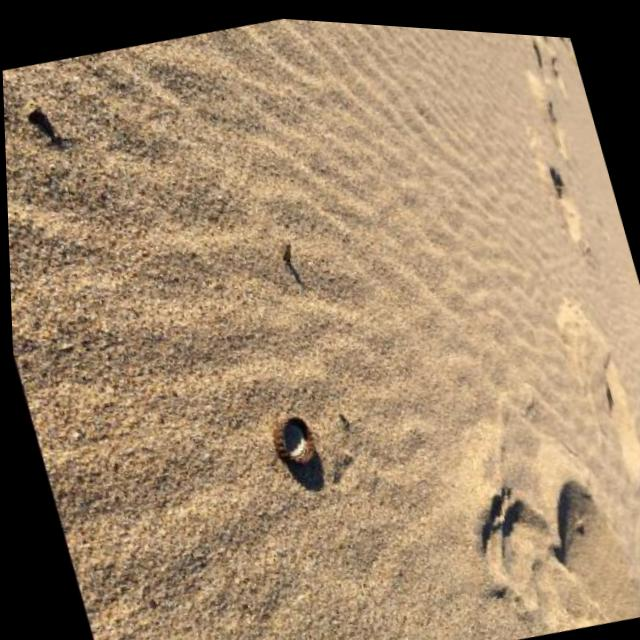metal: (266, 411, 318, 470)
